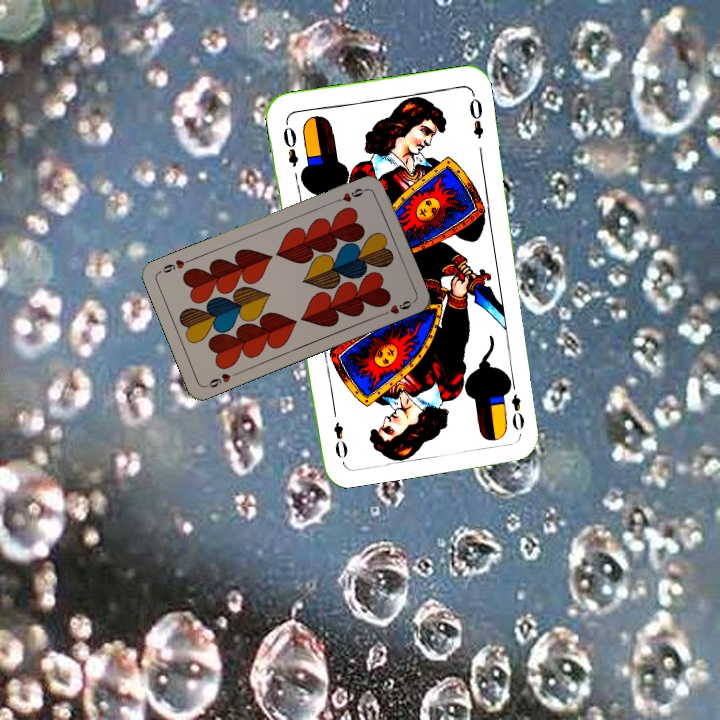EO: (502, 376, 527, 433), (279, 117, 301, 170)
H9: (330, 184, 369, 206), (202, 368, 240, 390)
